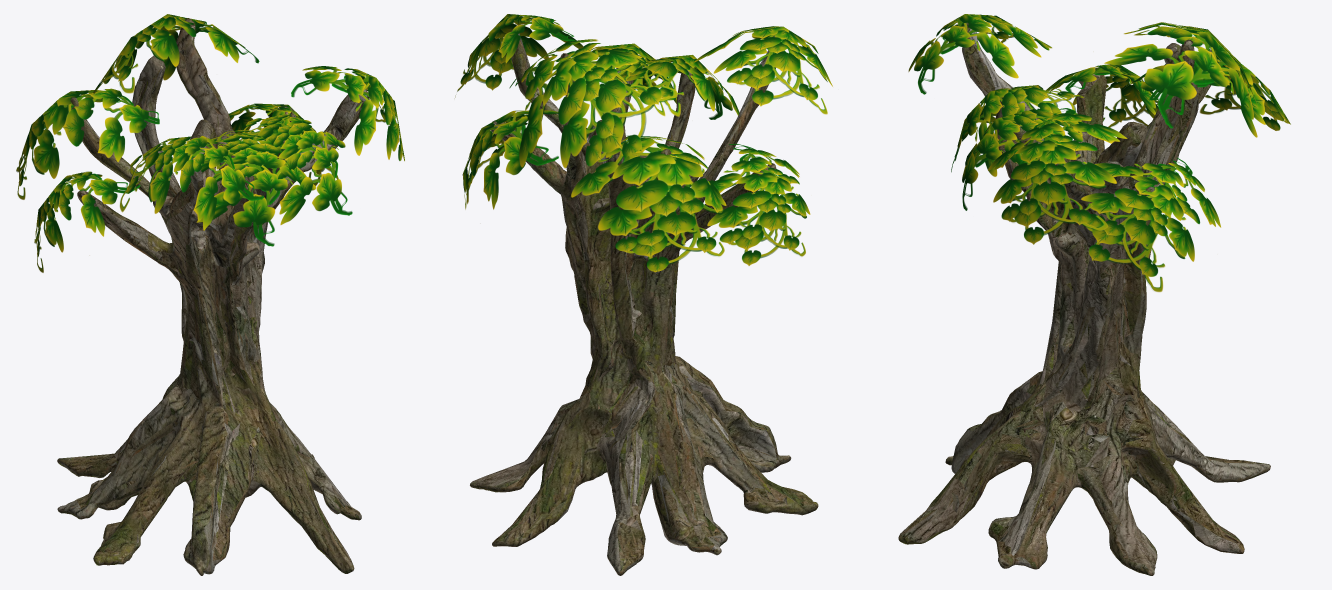
File: worldtree3central.glb
The picture shows the model from 3 angles, left to right: view 1: azimuth 30°, elevation 25°; view 2: azimuth 150°, elevation 25°; view 3: azimuth 270°, elevation 25°; orthographic projection. The views are drawn at different scales.
Parts seen in each view (by area): view 1: BézierCurve.001, leaves.009, leaves.011, leaves.016, leaves.015, leaves.014, leaves.012, leaves.013, leaves.010; view 2: BézierCurve.001, leaves.009, leaves.012, leaves.013, leaves.011, leaves.014, leaves.010, leaves.015, leaves.016; view 3: BézierCurve.001, leaves.010, leaves.014, leaves.012, leaves.011, leaves.015, leaves.016, leaves.013, leaves.009.
Part boxes in pixels (x1=…): BézierCurve.001: x1=57, y1=18, x2=369, y2=575; leaves.009: x1=16, y1=88, x2=159, y2=199; leaves.011: x1=120, y1=135, x2=263, y2=230; leaves.016: x1=216, y1=114, x2=352, y2=224; leaves.015: x1=196, y1=130, x2=316, y2=246; leaves.014: x1=291, y1=66, x2=404, y2=161; leaves.012: x1=91, y1=14, x2=259, y2=97; leaves.013: x1=34, y1=171, x2=140, y2=272; leaves.010: x1=228, y1=103, x2=338, y2=185; BézierCurve.001: x1=470, y1=29, x2=818, y2=575; leaves.009: x1=571, y1=135, x2=726, y2=272; leaves.012: x1=509, y1=39, x2=677, y2=168; leaves.013: x1=704, y1=143, x2=810, y2=265; leaves.011: x1=694, y1=26, x2=832, y2=114; leaves.014: x1=455, y1=14, x2=583, y2=97; leaves.010: x1=462, y1=110, x2=558, y2=209; leaves.015: x1=615, y1=55, x2=739, y2=119; leaves.016: x1=553, y1=43, x2=676, y2=116; BézierCurve.001: x1=898, y1=22, x2=1270, y2=575; leaves.010: x1=1081, y1=158, x2=1221, y2=292; leaves.014: x1=988, y1=108, x2=1127, y2=244; leaves.012: x1=1104, y1=22, x2=1257, y2=137; leaves.011: x1=908, y1=14, x2=1051, y2=94; leaves.015: x1=951, y1=85, x2=1084, y2=176; leaves.016: x1=962, y1=109, x2=1085, y2=210; leaves.013: x1=1046, y1=64, x2=1158, y2=127; leaves.009: x1=1124, y1=54, x2=1290, y2=130.
Bounding box in the file's own units: 10.09 × 13.04 × 10.49.
2 materials, 2 textured.
